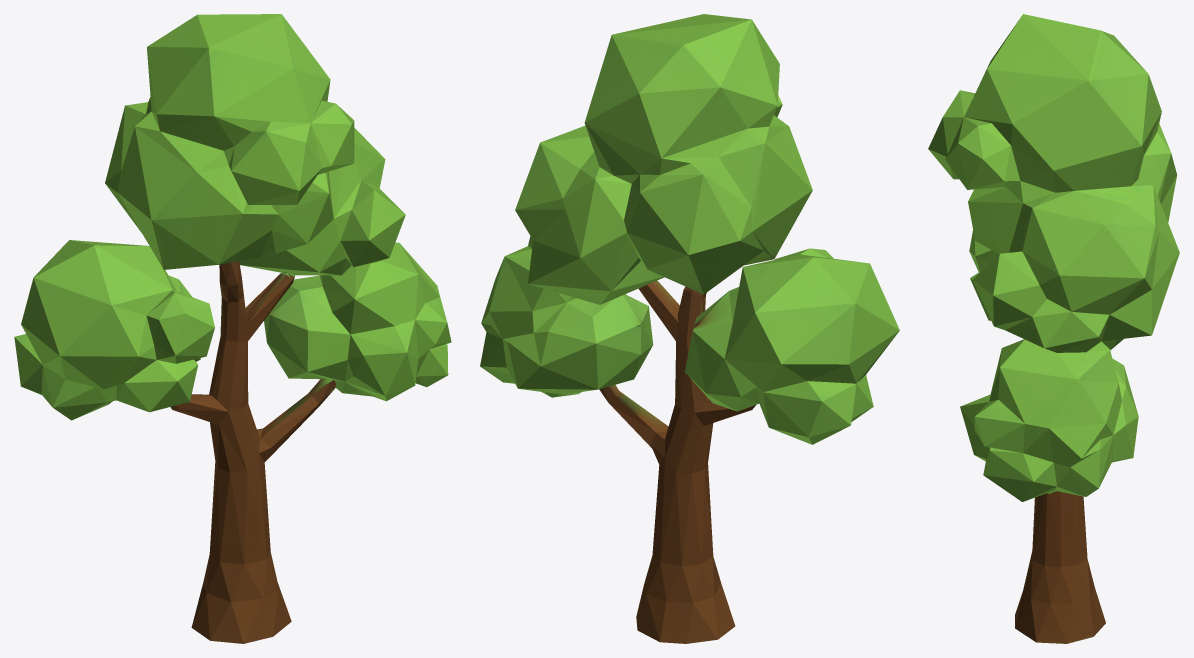
3 views of the same model, side by side, from view 1: azimuth 30°, elevation 25°; view 2: azimuth 150°, elevation 25°; view 3: azimuth 270°, elevation 25° (orthographic). The views are drawn at different scales.
Visible parts, largest first — view 1: texture_pbr_v128; view 2: texture_pbr_v128; view 3: texture_pbr_v128.
Part boxes in pixels (x1=…): texture_pbr_v128: x1=14, y1=14, x2=451, y2=643; texture_pbr_v128: x1=480, y1=14, x2=899, y2=643; texture_pbr_v128: x1=928, y1=14, x2=1179, y2=643.
Size of the model in its own units: 0.801 by 1.18 by 0.4593.
1 material, 1 textured.
